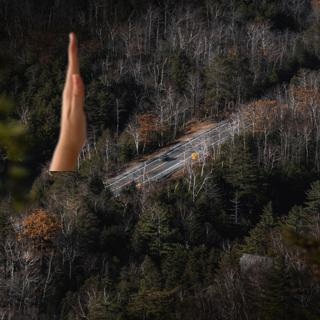Right: (51, 27, 101, 163)
